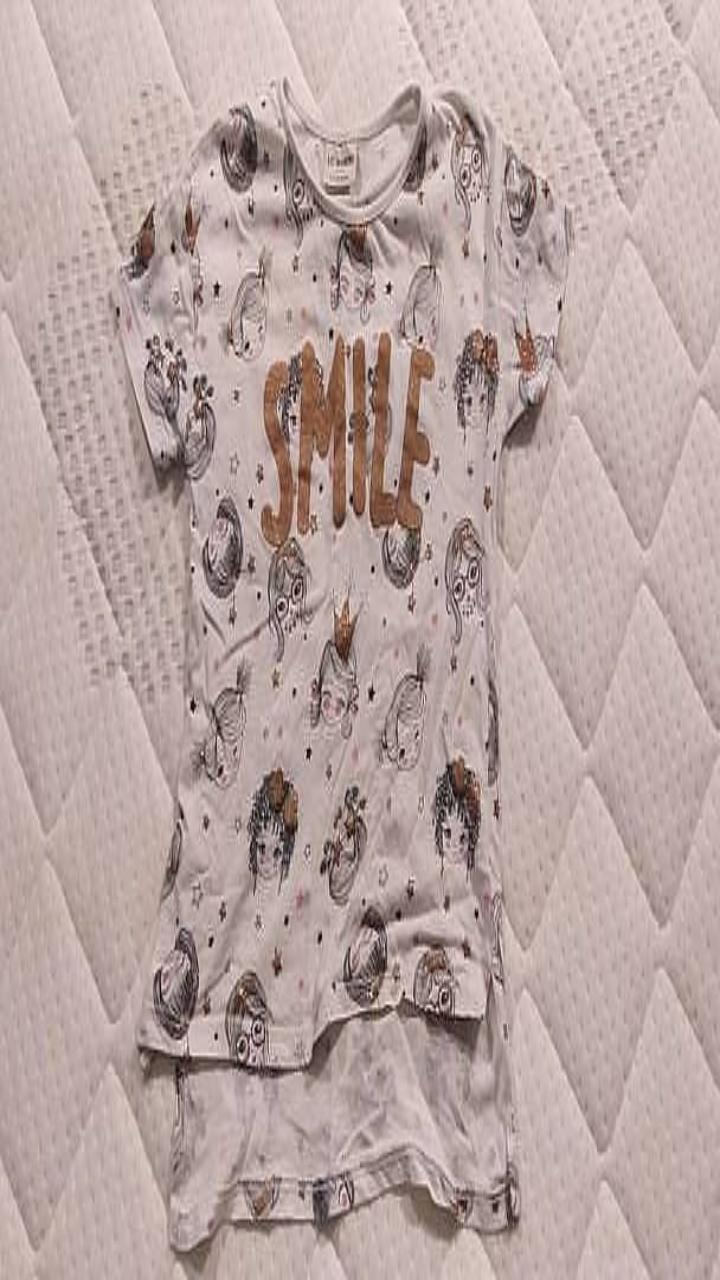T-Shirt: (113, 78, 571, 1248)
